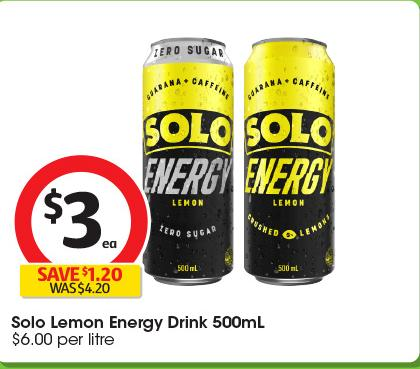description_block: (7, 307, 274, 333)
price_main: (9, 142, 152, 262)
product_image_block: (132, 36, 349, 303)
promo_text_block: (9, 259, 145, 304)
unit_price_block: (6, 328, 119, 351)
